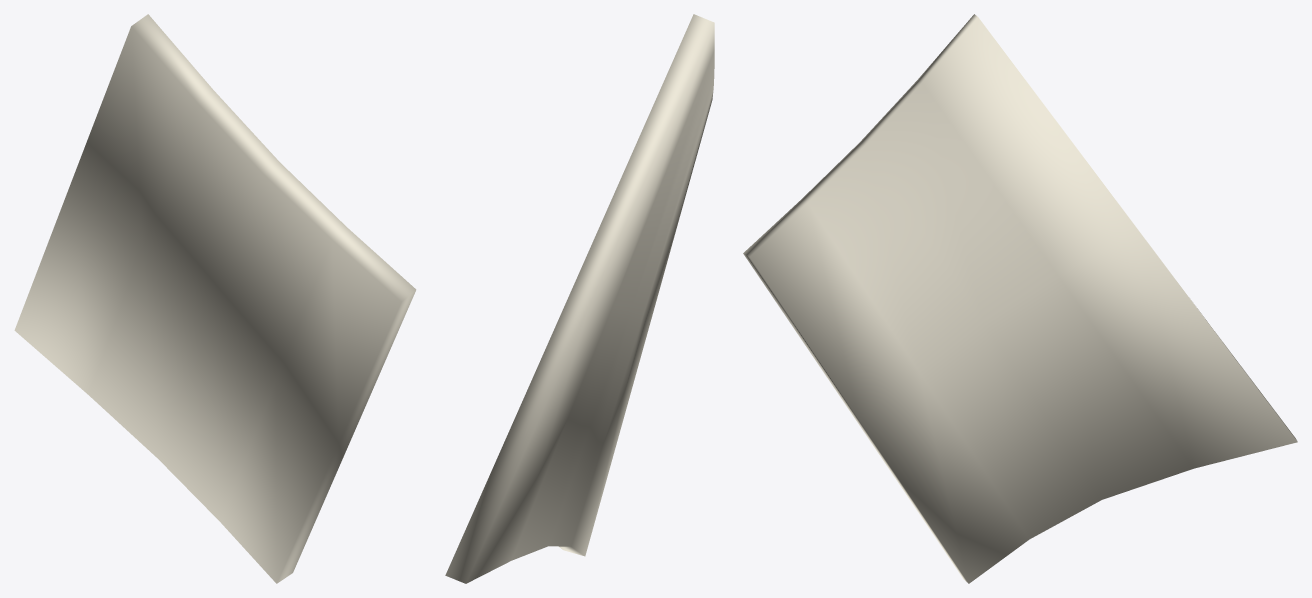
3 renders of one model, left to right at view 1: azimuth 30°, elevation 25°; view 2: azimuth 150°, elevation 25°; view 3: azimuth 270°, elevation 25°, orthographic. The views are drawn at different scales.
Visible parts, largest first — view 1: ZA_c8579e6843b147dc; view 2: ZA_c8579e6843b147dc; view 3: ZA_c8579e6843b147dc.
Part boxes in pixels (box(x1,y1,x2,y2)): ZA_c8579e6843b147dc: box(14, 14, 416, 583); ZA_c8579e6843b147dc: box(445, 14, 714, 583); ZA_c8579e6843b147dc: box(743, 14, 1297, 583).
Bounding box in the file's own units: 0.00387 × 0.0138 × 0.0136.
